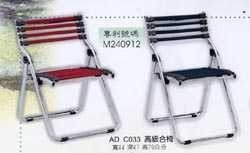obstacle: (17, 12, 238, 150)
